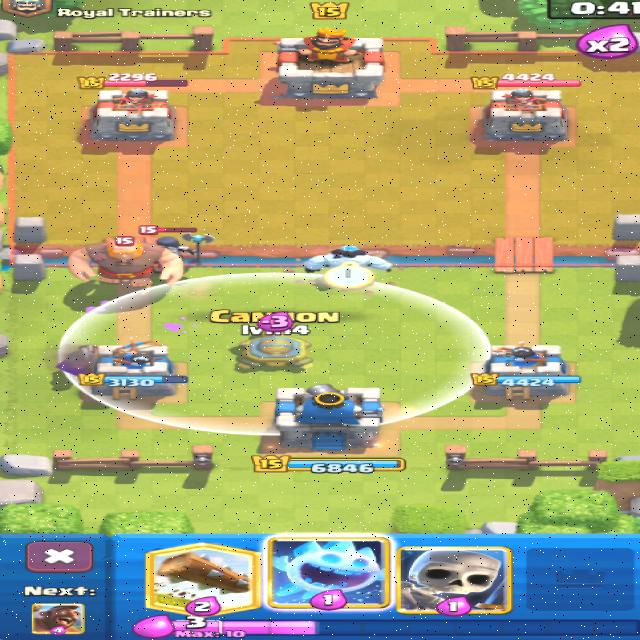Enemy-Giant: (69, 238, 179, 288)
Enemy-KingTower: (276, 28, 384, 100)
Enemy-NightWitch: (139, 225, 214, 266)
Enemy-PrincessTower: (89, 88, 174, 144), (483, 88, 566, 141)
Player-IceGolem: (305, 245, 390, 272)
Player-KingTower-Activated: (275, 384, 384, 451)
Player-Musketeer-Evo: (57, 346, 97, 373)
Player-PrincessTower: (473, 346, 580, 399), (96, 341, 175, 398)
